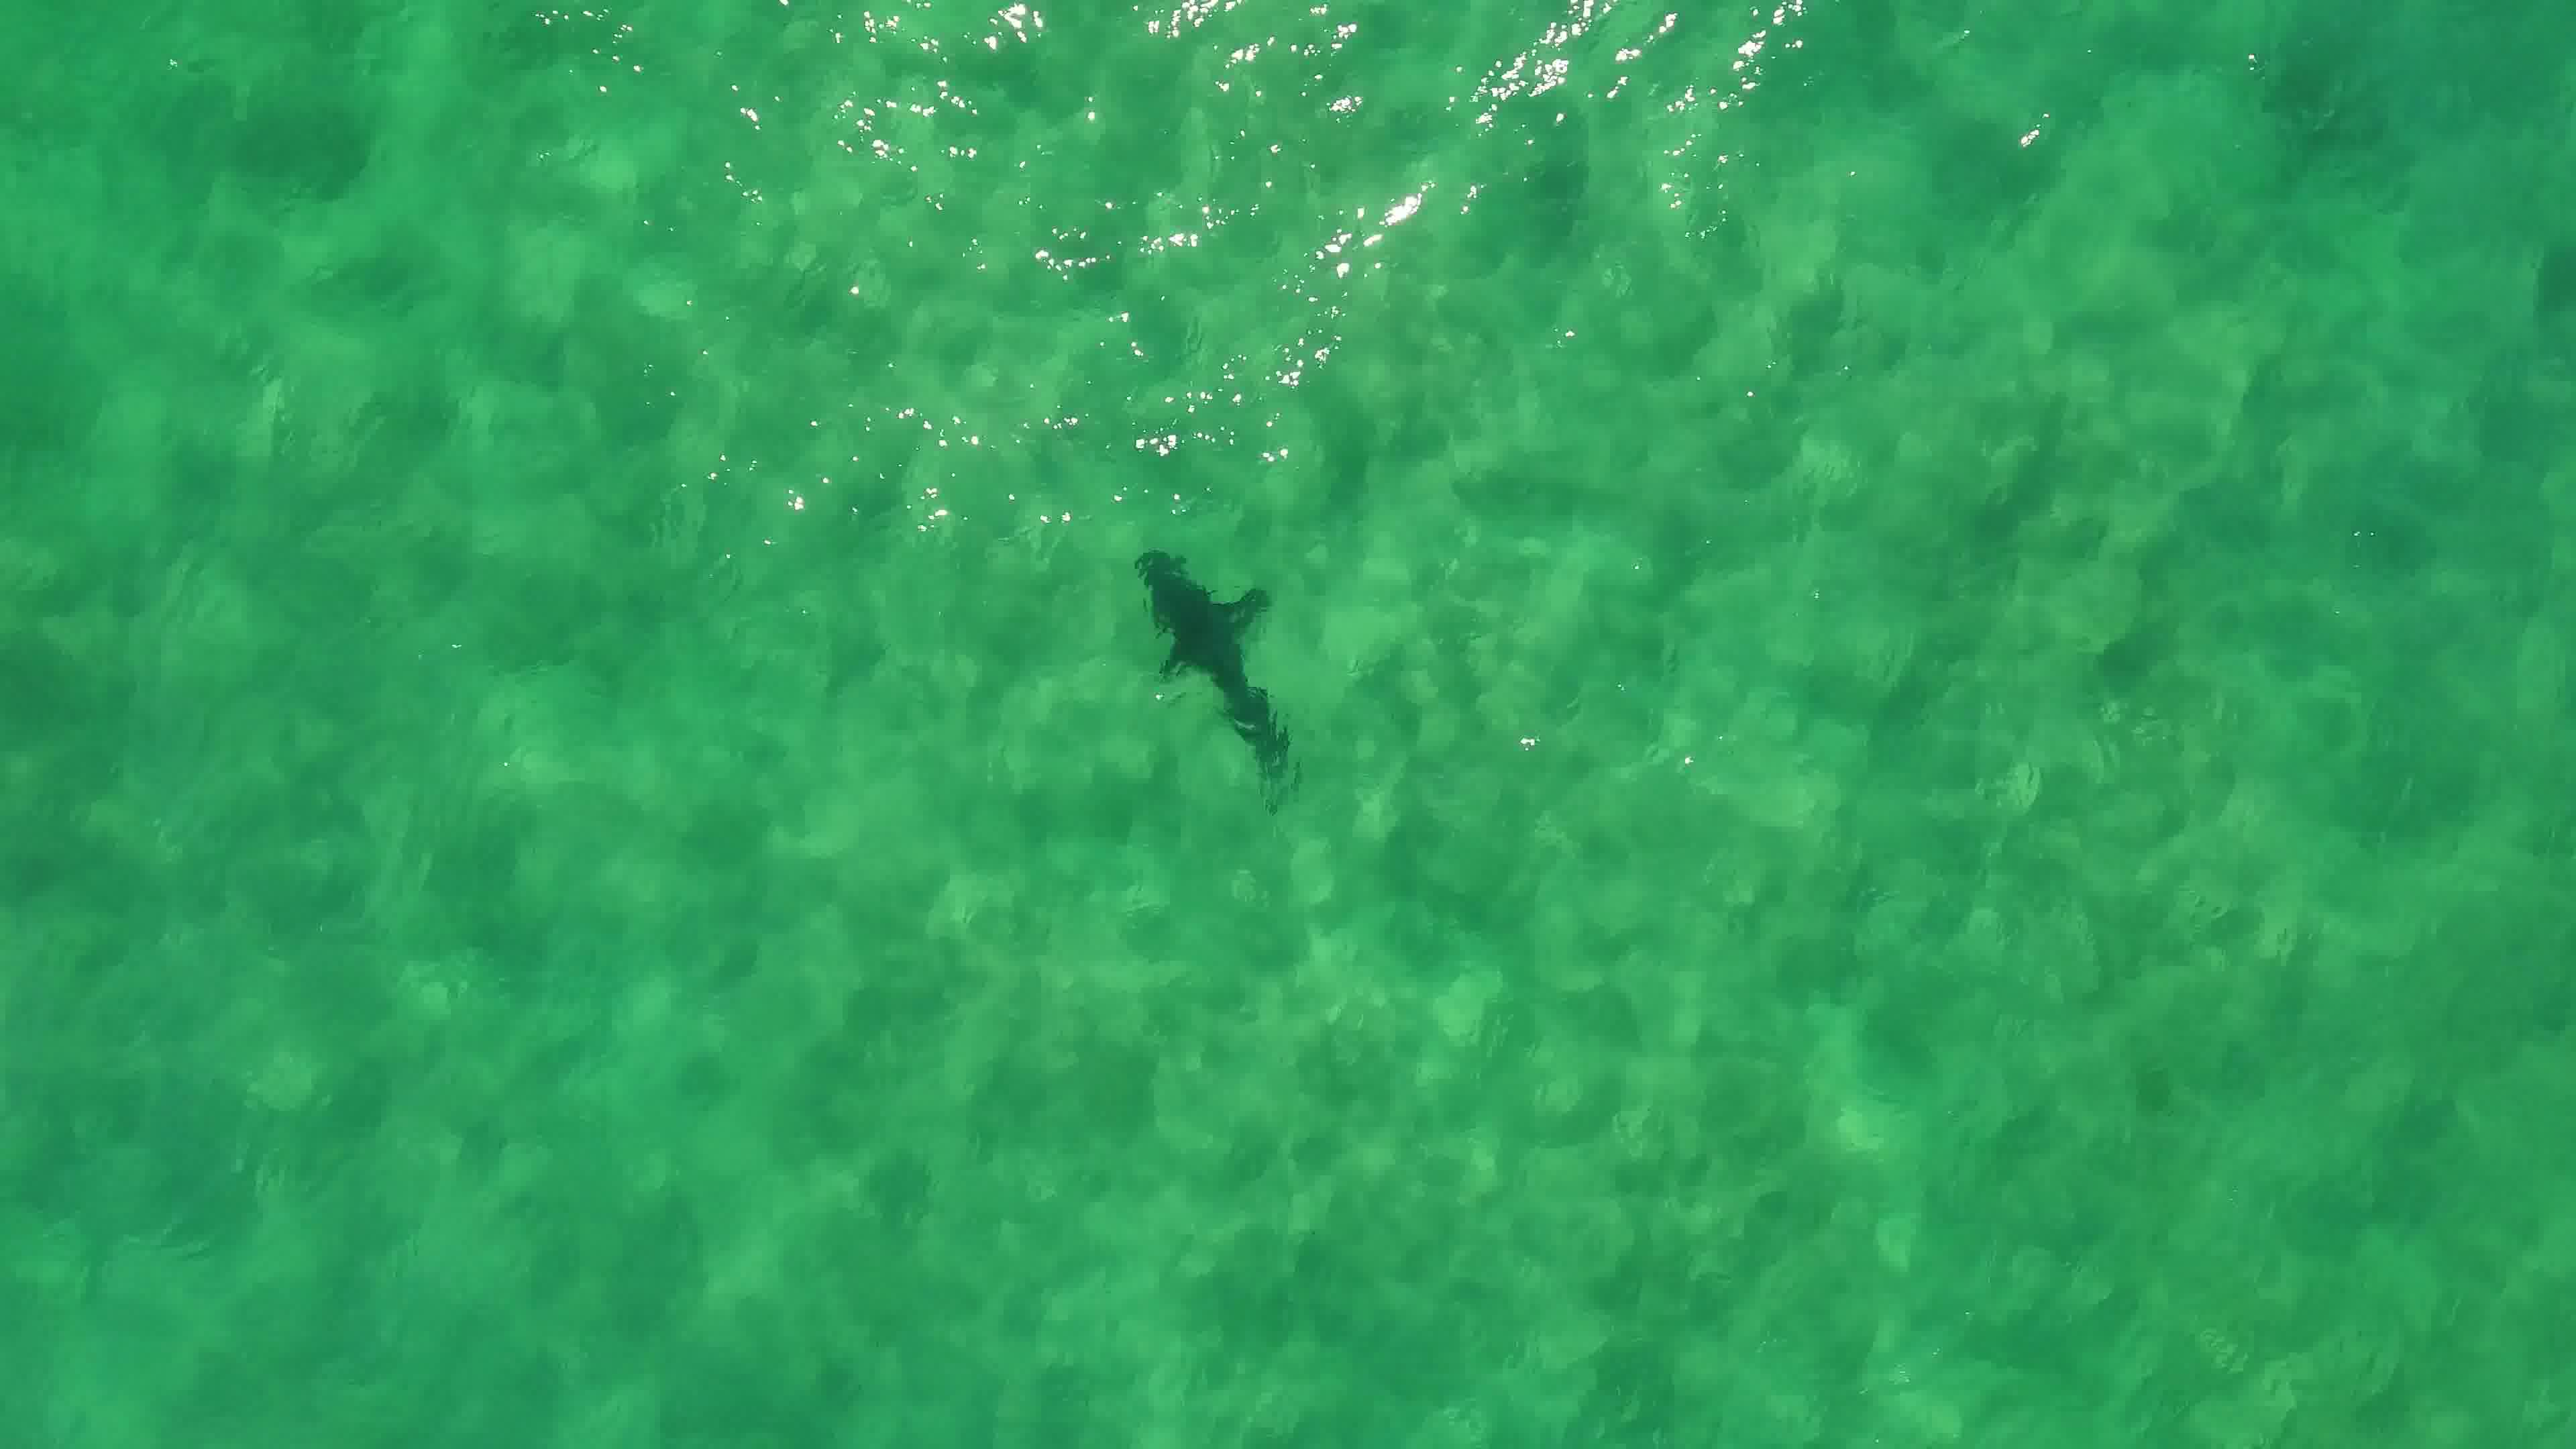shark: (1123, 543, 1299, 794)
